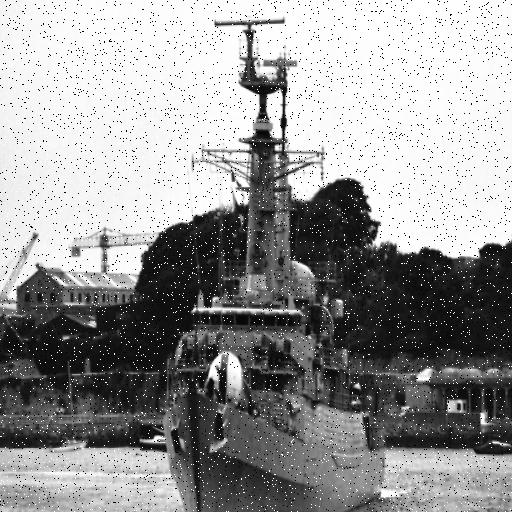Fragata: (163, 1, 392, 512)
